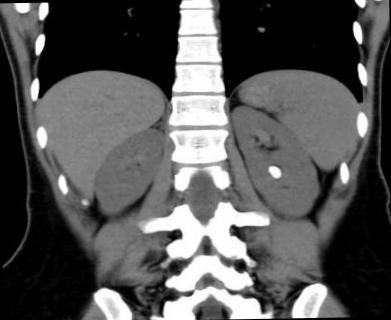Tas_Var: (262, 163, 284, 181)
